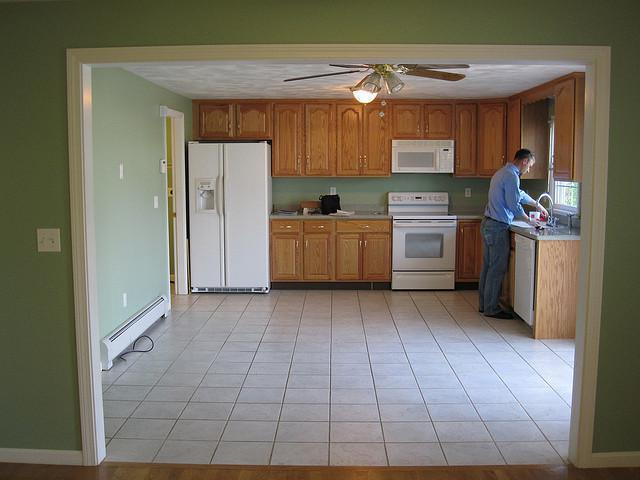Lavaplatos: (507, 189, 560, 231)
